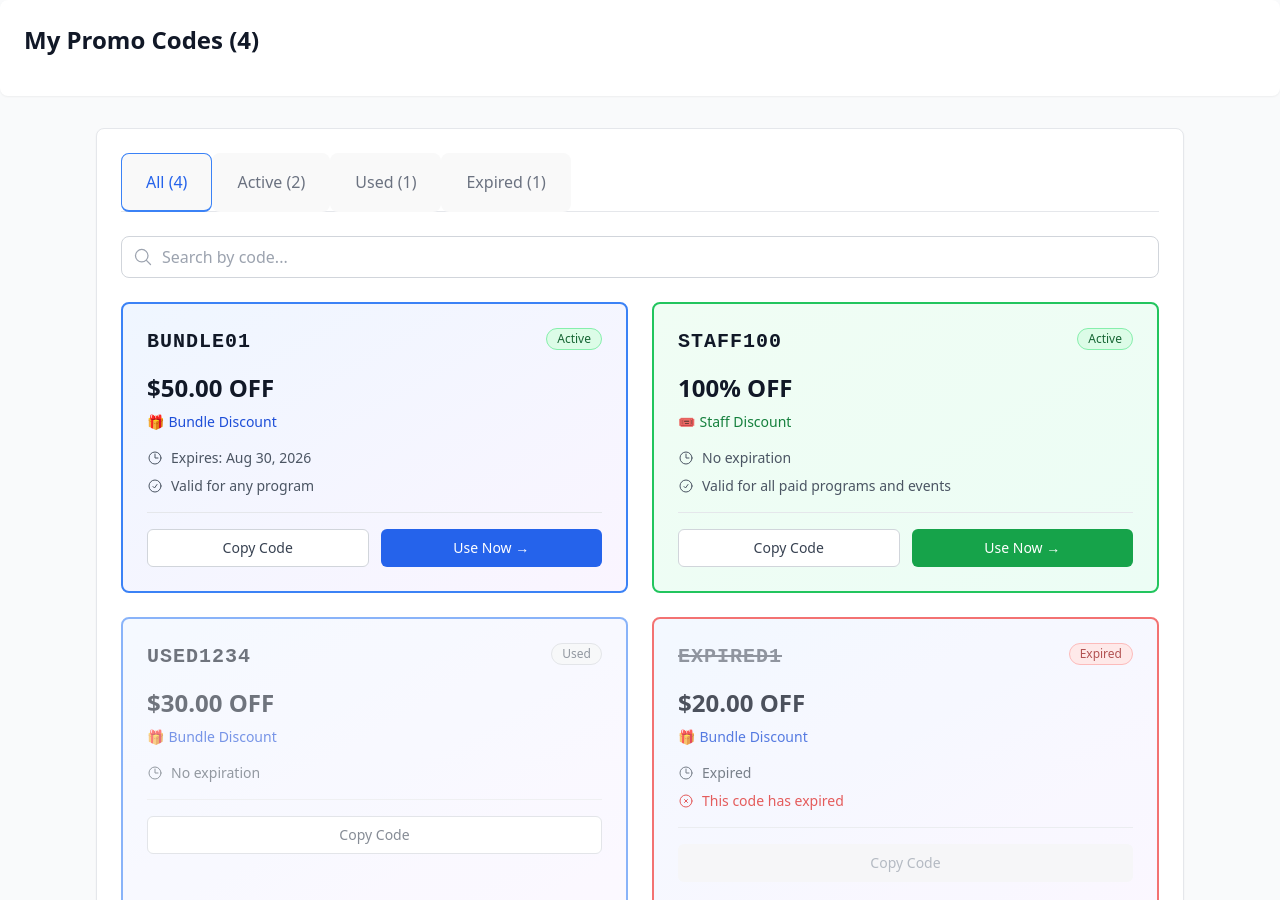
Test: MyPromoCodes Page › Filtering › filters to show only expired codes
Expected: the text "EXPIRED1" is shown, [678,645,782,668]
What coordinates should you click on to do the following:
click the button "Expired (1)"
I would click on:
 (506, 182)
Its box is [442,153,571,212].
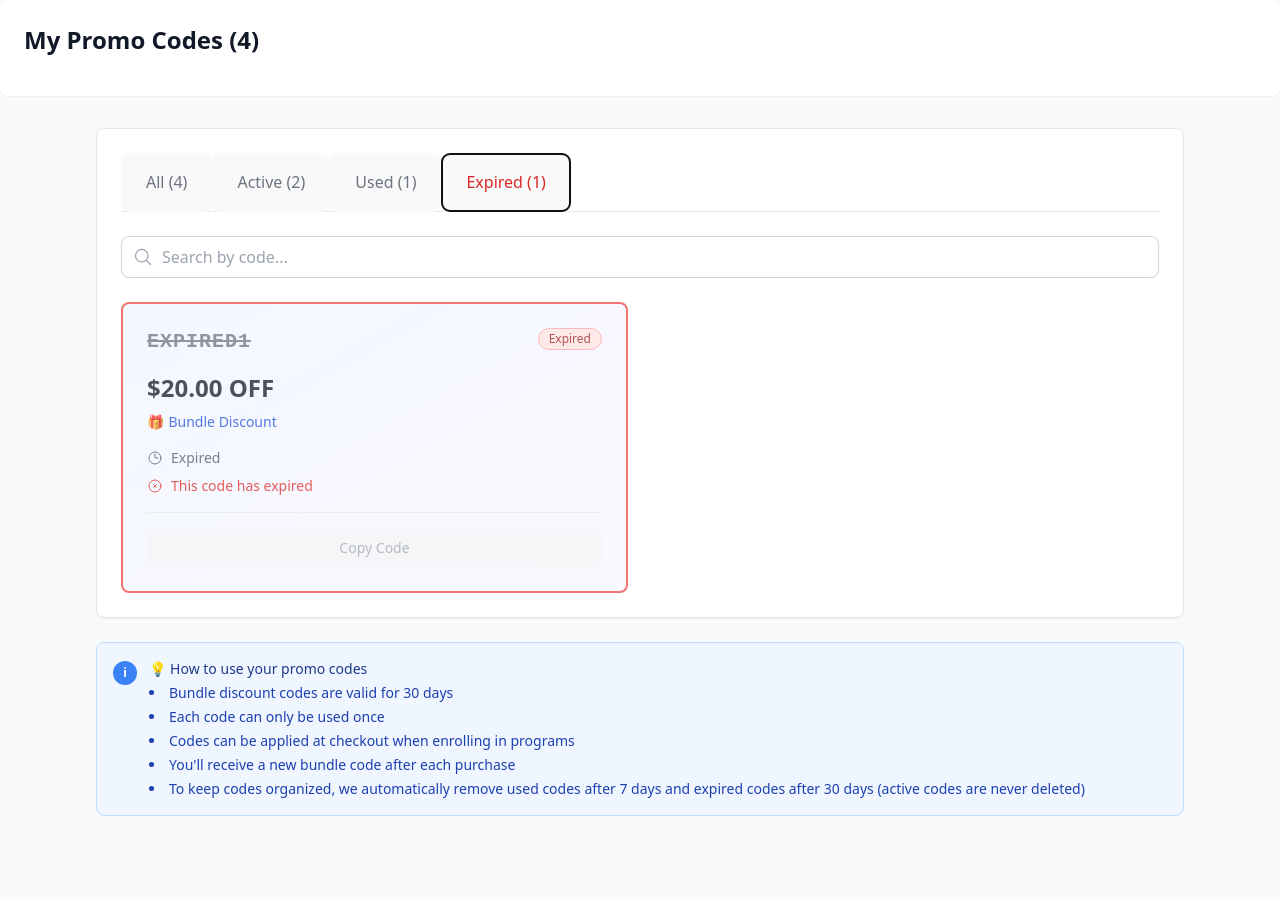
Now the text "BUNDLE01" is gone
Now the text "STAFF100" is gone
Now the text "USED1234" is gone
